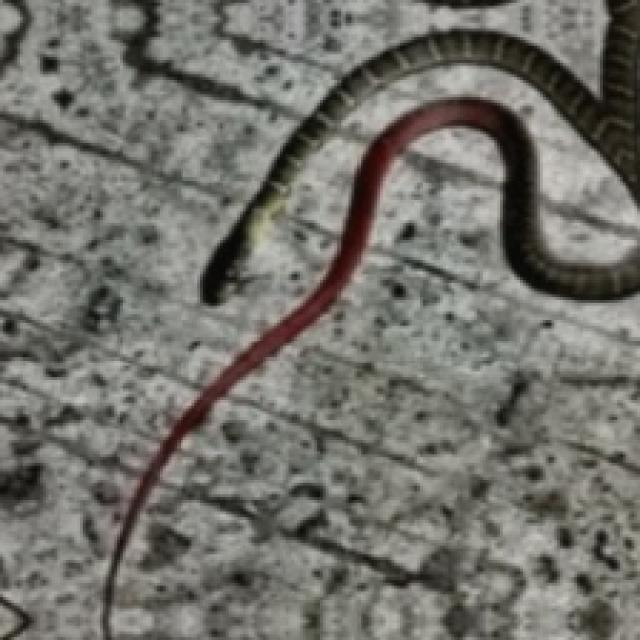reddish rat snake: (101, 98, 640, 639), (201, 1, 640, 303), (548, 259, 640, 298)
